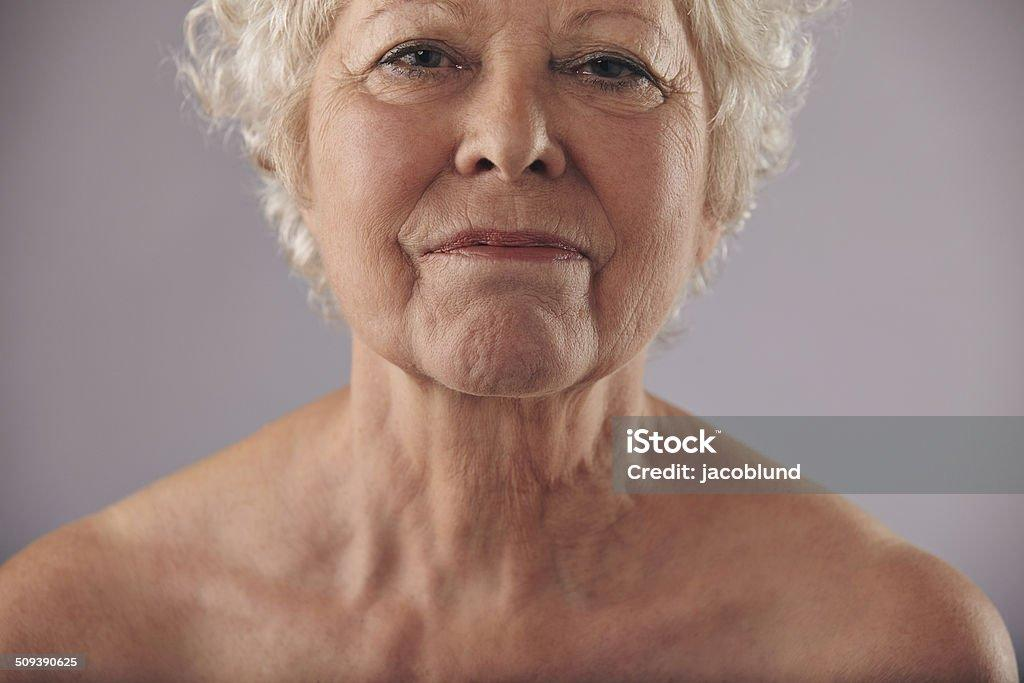Dry-Skin: (336, 198, 476, 360), (601, 223, 698, 365), (483, 303, 613, 407)
